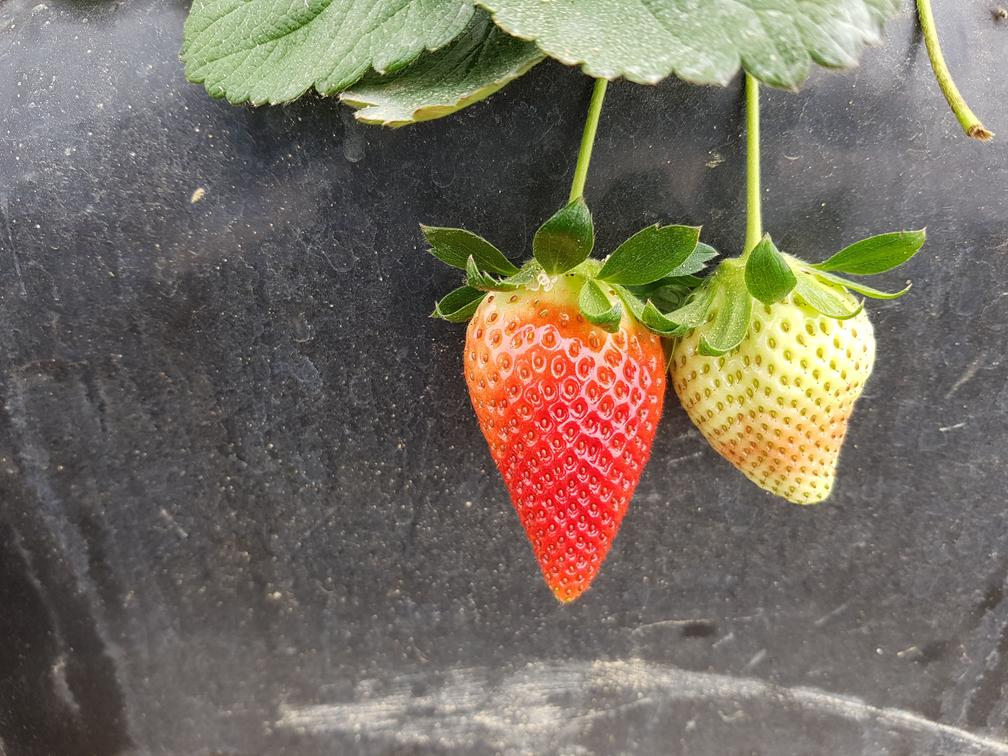Ripe: (461, 258, 672, 600)
Unripe: (668, 255, 880, 512)
